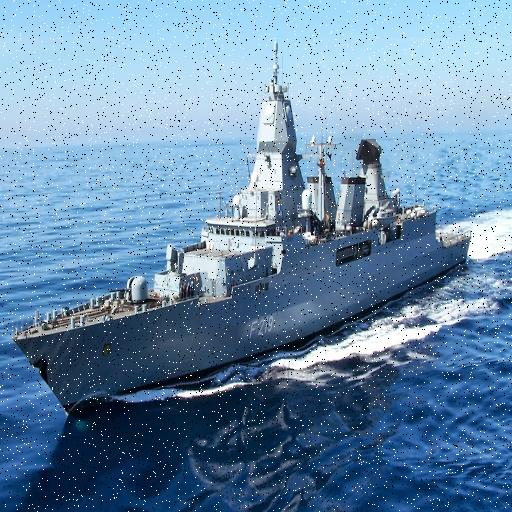Fragata: (1, 34, 278, 427)
